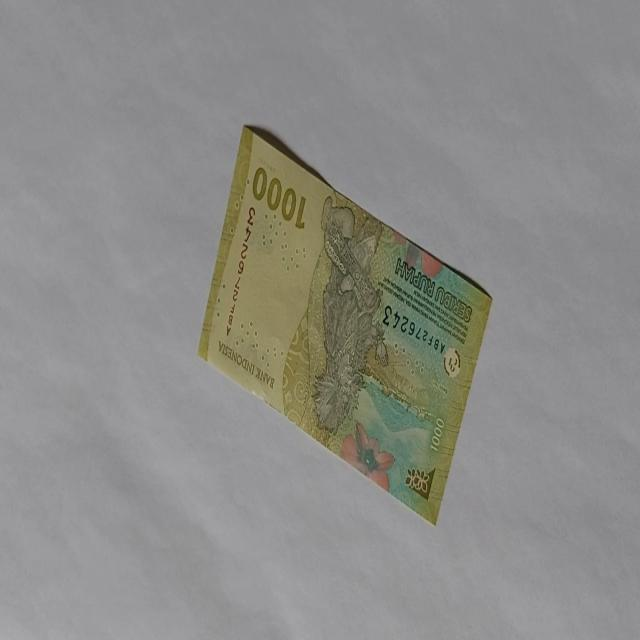seribu rupiah kertas: (197, 124, 493, 526)
